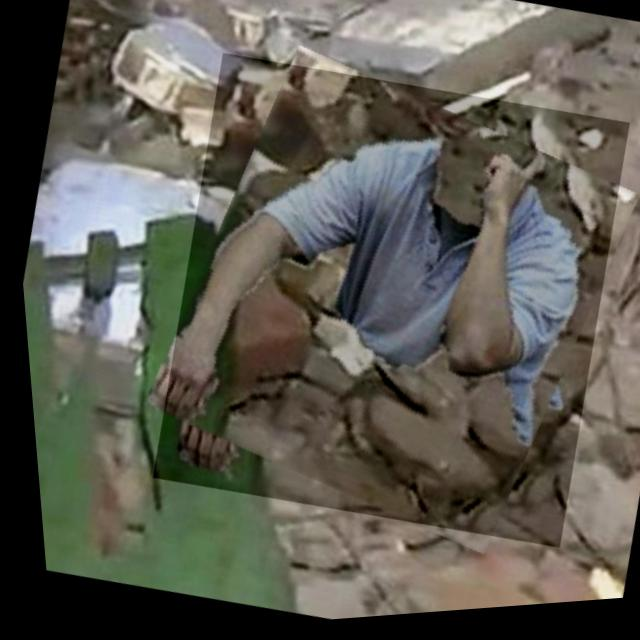Person in Rubble: (117, 33, 640, 579)
